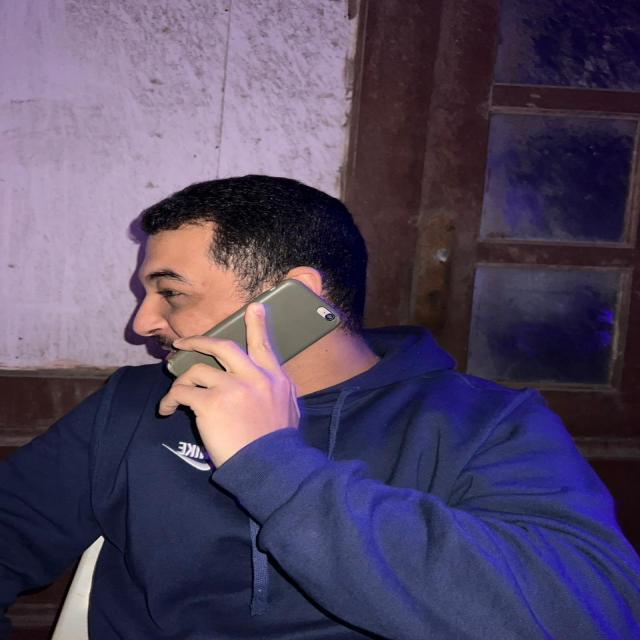phone: (168, 280, 344, 400)
